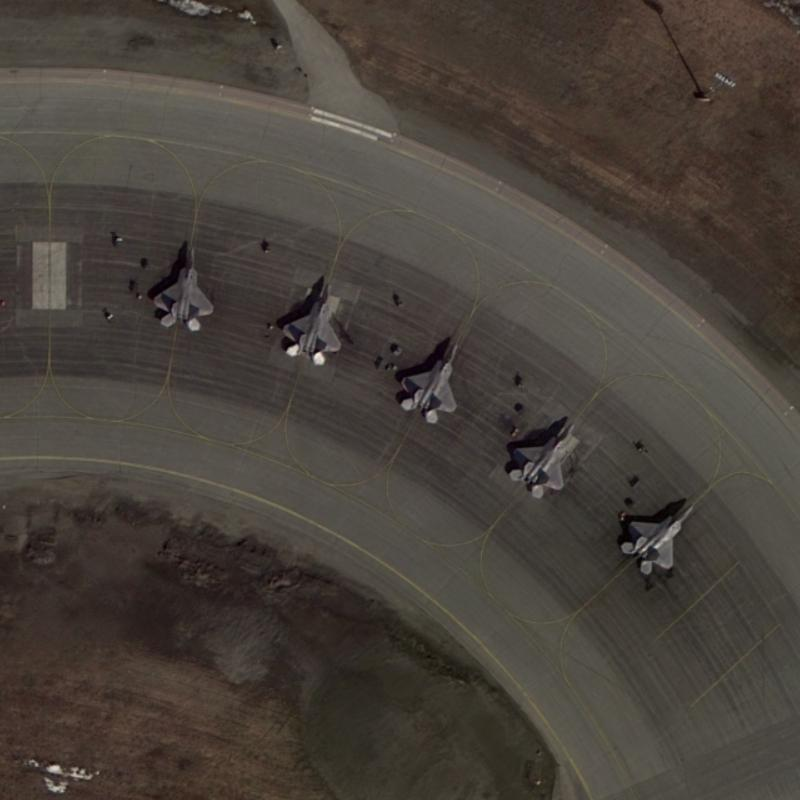A15: (273, 267, 353, 371), (386, 327, 465, 427), (141, 240, 222, 337), (497, 414, 579, 503), (616, 495, 697, 582)
